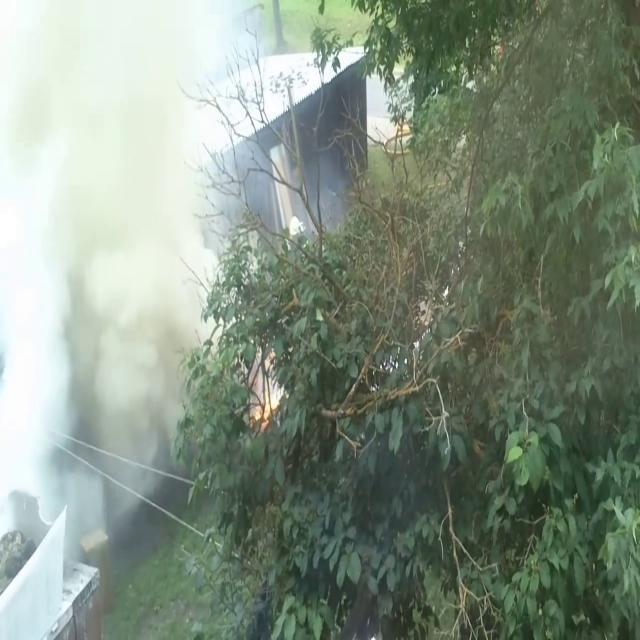Smoke: (0, 0, 231, 542), (262, 102, 354, 242)
